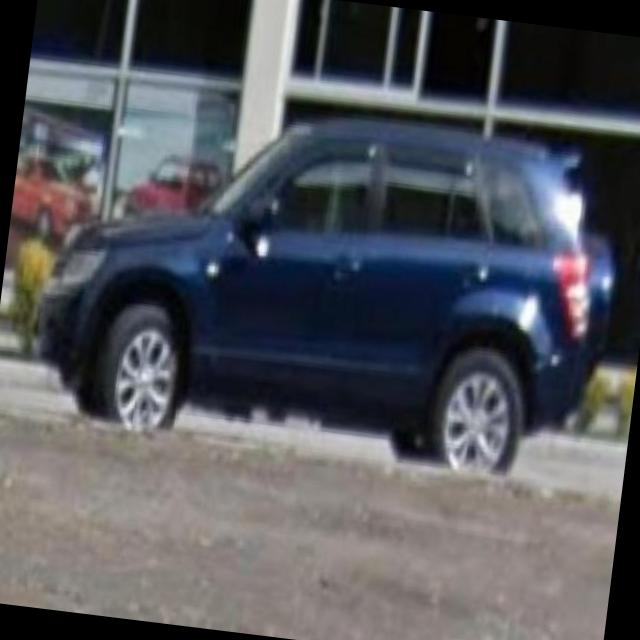car: (18, 82, 626, 498)
